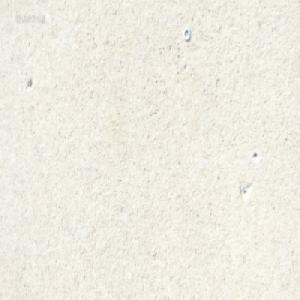Washer: (183, 27, 191, 41)
